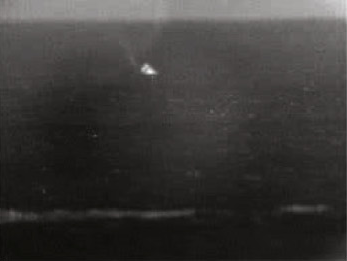Target: (142, 65, 156, 75)
